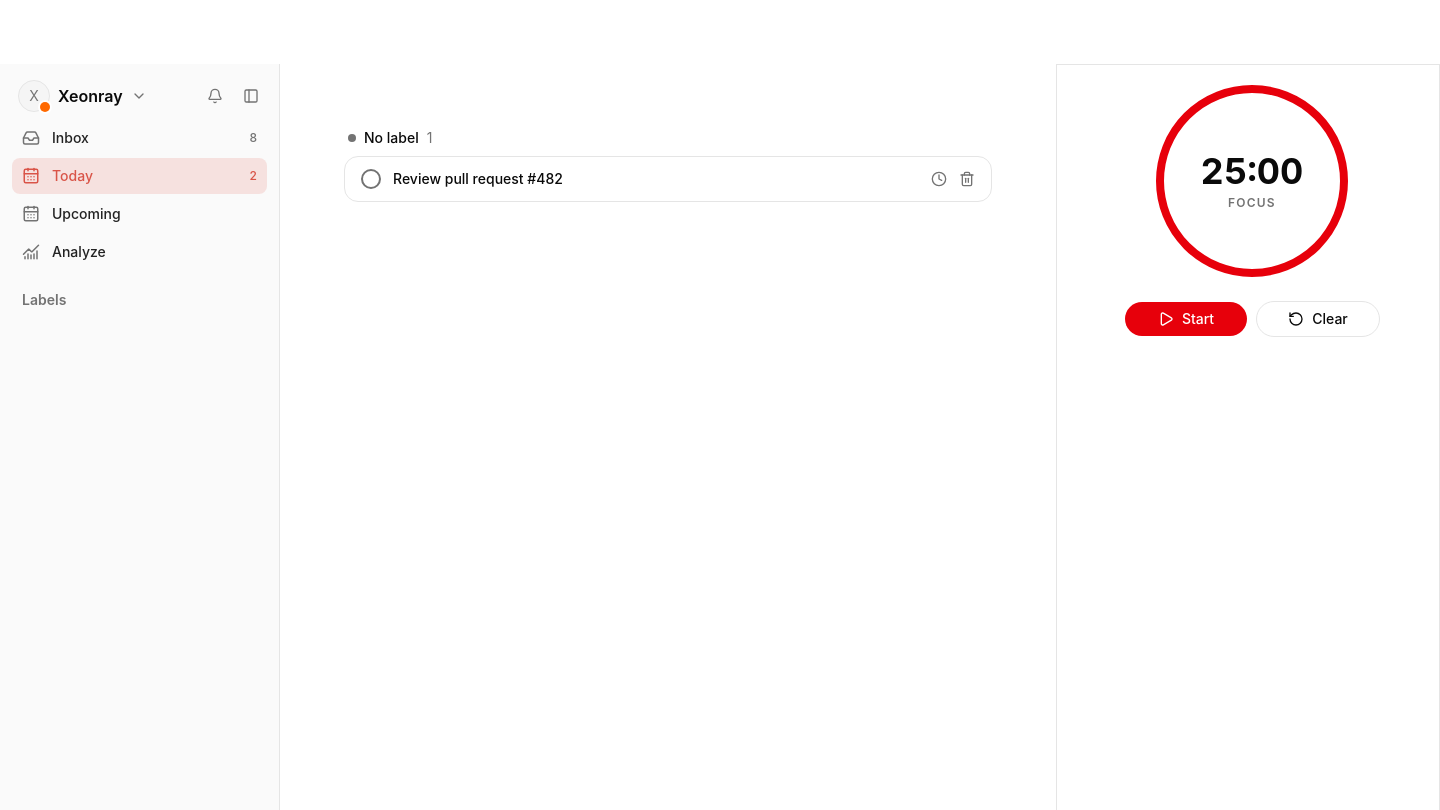
AppLayout › hides the timer task card when the same clock icon is clicked again
Click the button named "Toggle task timer card" at {"x": 939, "y": 179}, box [931,171,947,187]
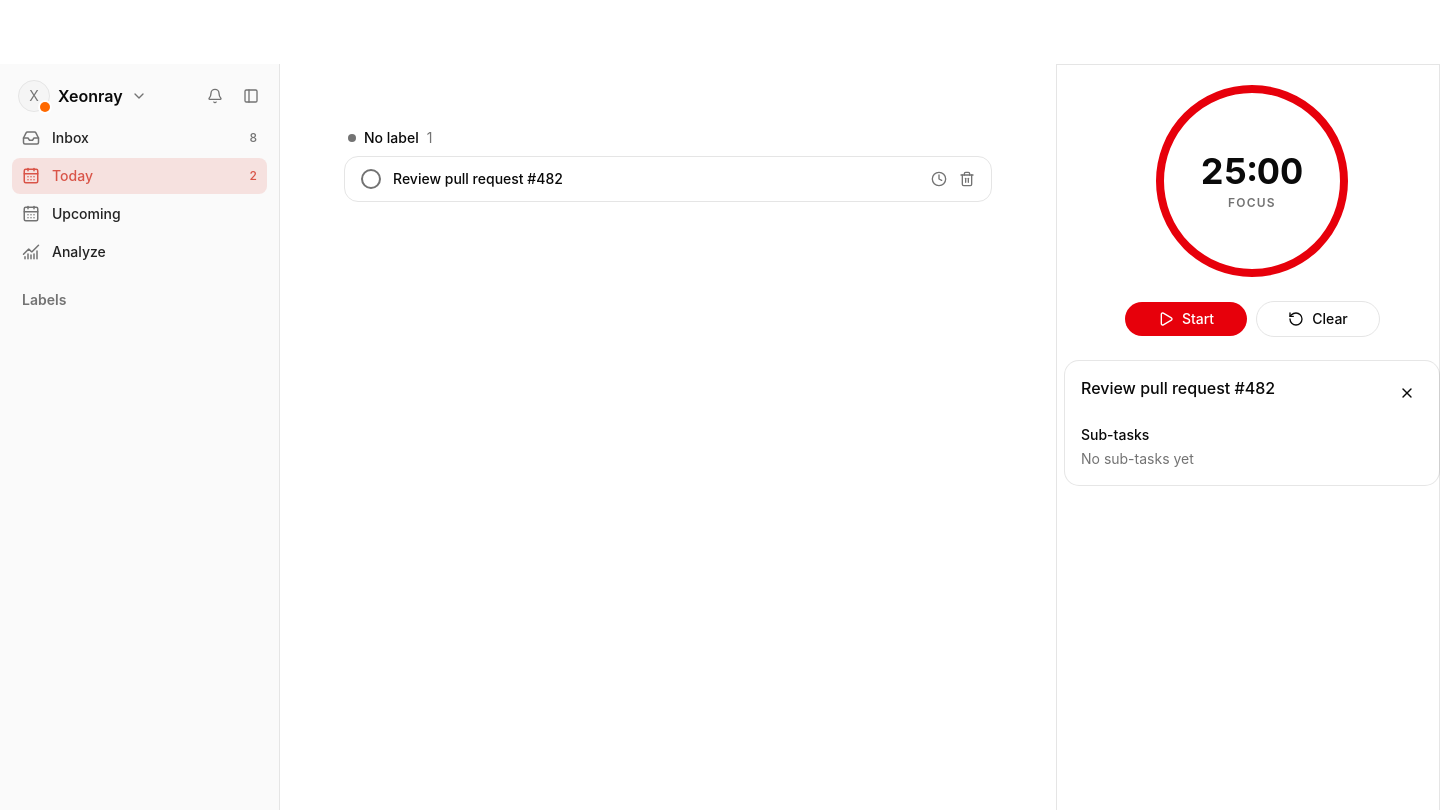
Click the button named "Toggle task timer card" at {"x": 939, "y": 179}, box [931,171,947,187]
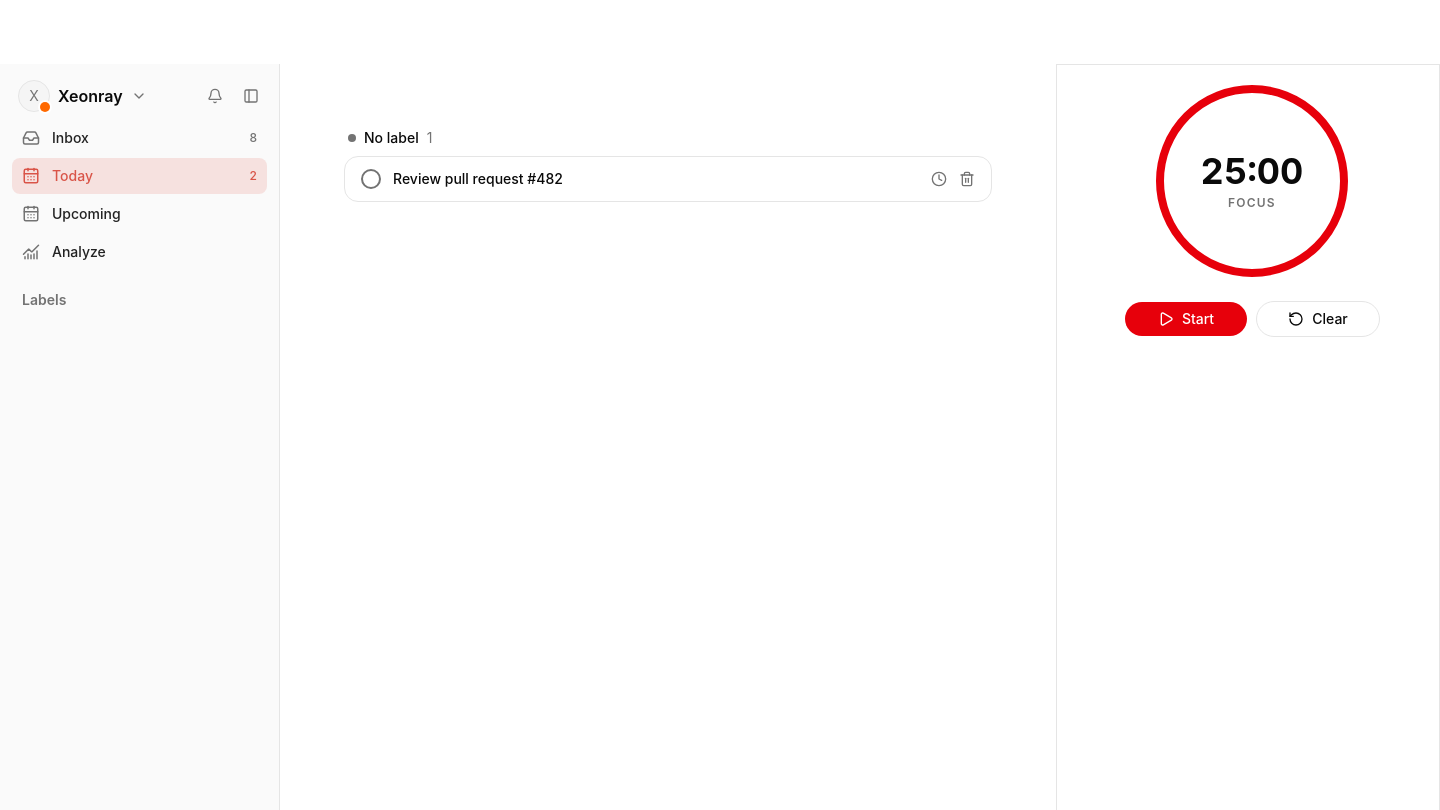
Check: the text "No sub-tasks yet" is gone
